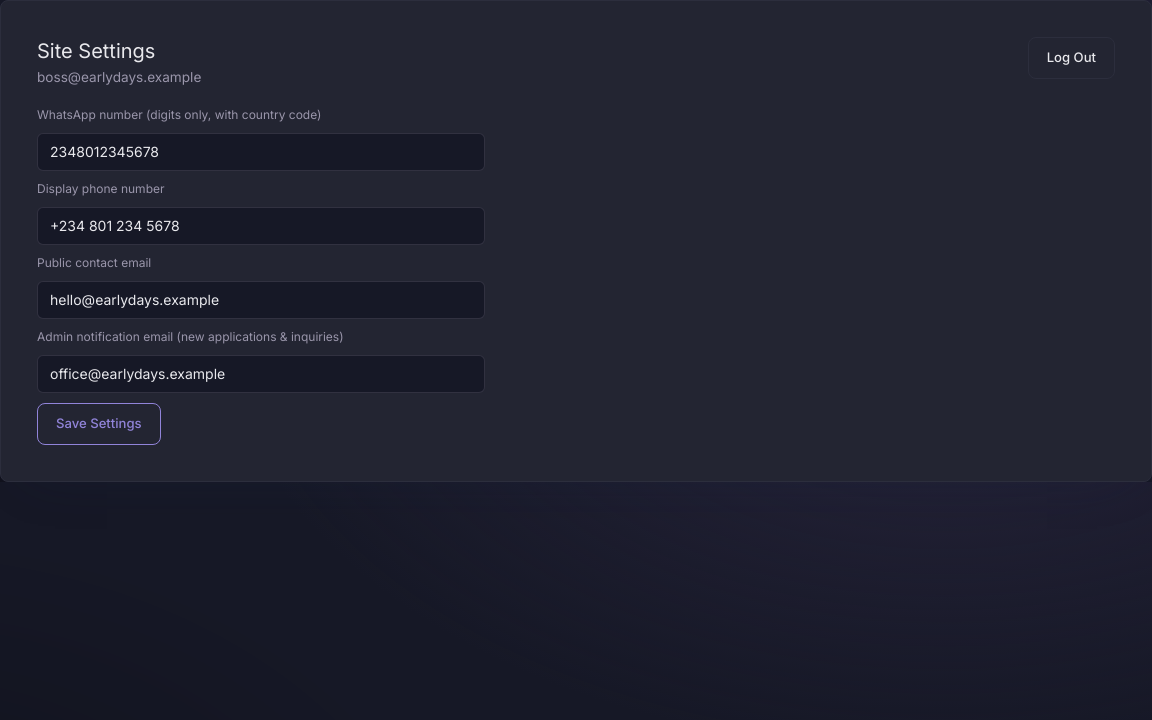
Test: AdminSettingsOverview › saves updated settings
Replace the text in the field labelled "WhatsApp number (digits only, with country code)" with "2349087654321" at {"x": 261, "y": 152}, box [37,133,485,171]
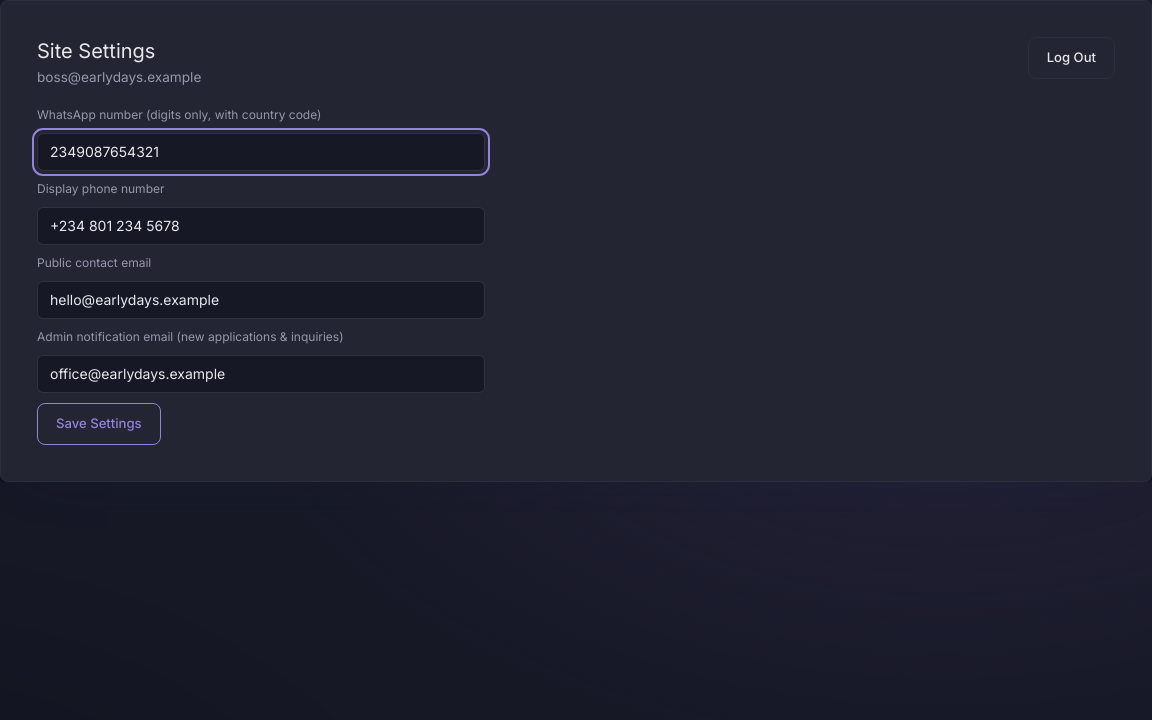
Click the button "Save Settings" at {"x": 99, "y": 424}, box [37,403,161,445]
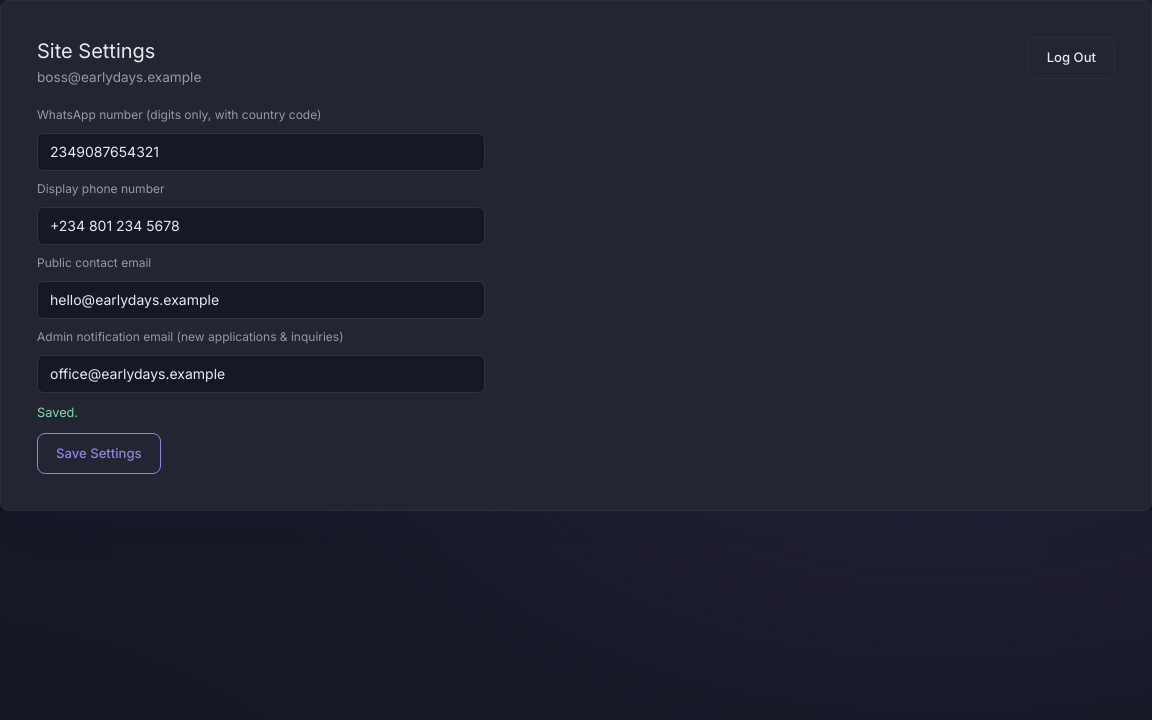
Expected: the text "Saved." is shown, [37,405,78,420]
